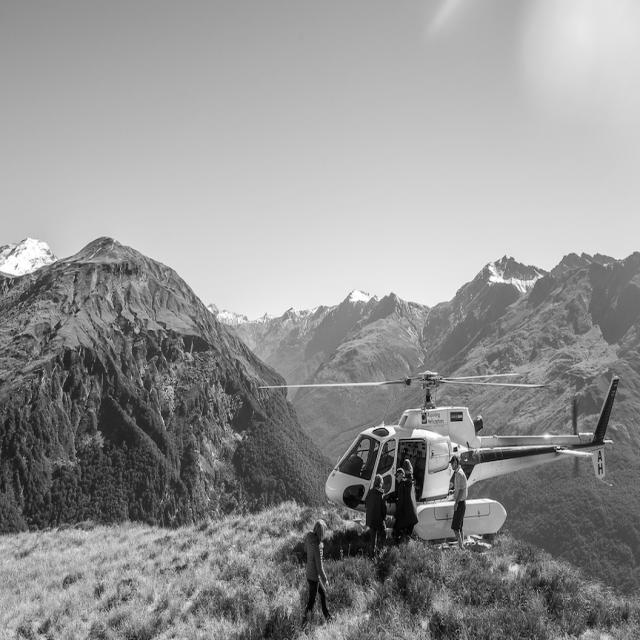helicopter: (260, 352, 631, 536)
